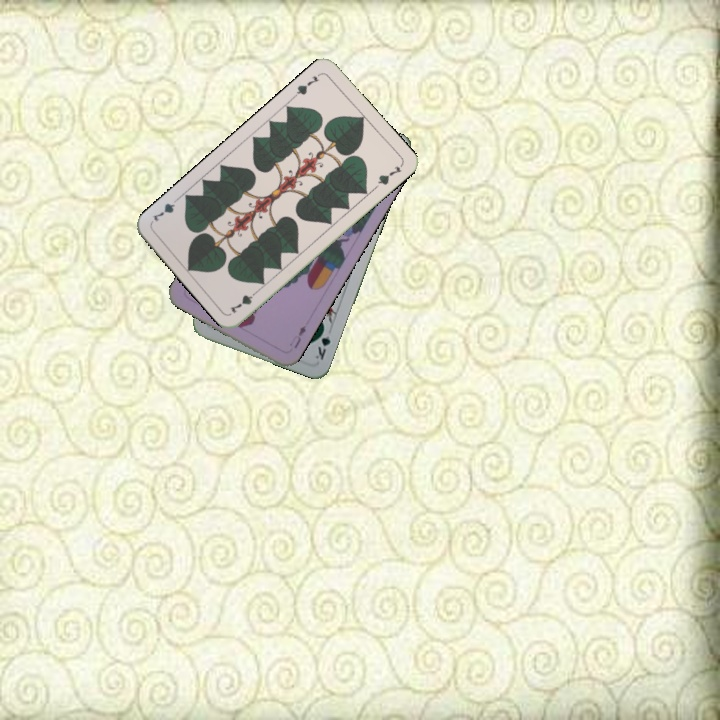EU: (285, 321, 309, 351)
G7: (225, 285, 262, 316), (289, 69, 323, 100)
GK: (311, 323, 334, 363)
